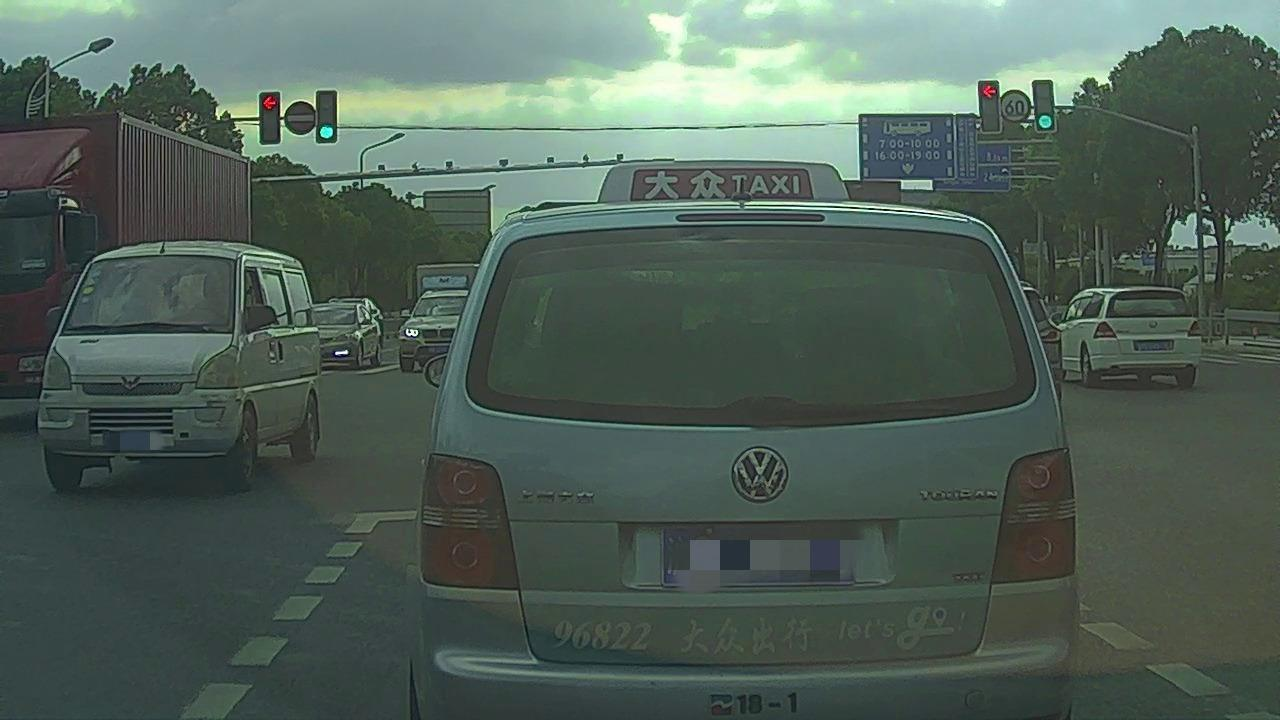traffic_light: (1032, 82, 1055, 135), (978, 80, 1001, 132), (317, 89, 338, 142), (262, 91, 280, 142)
